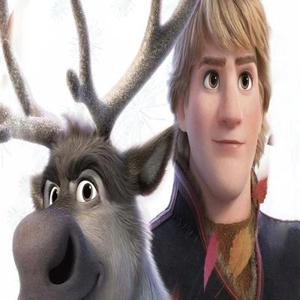sven: (4, 18, 169, 290)
